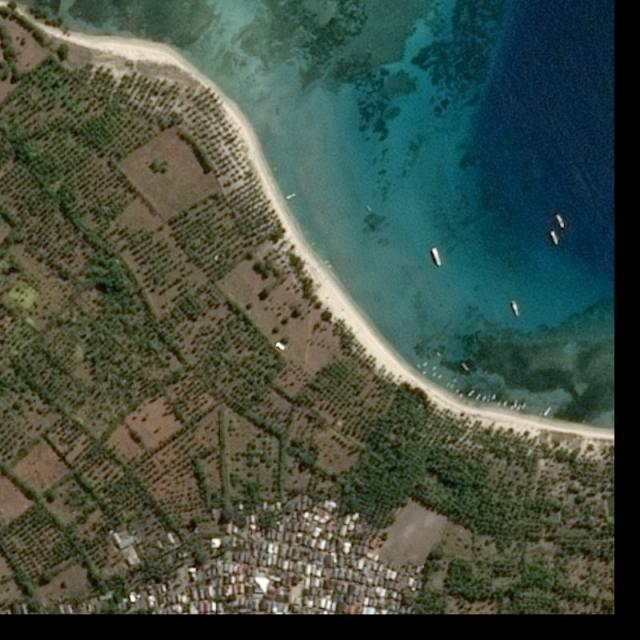ship: (431, 248, 443, 268), (510, 301, 521, 318), (550, 230, 561, 246), (556, 214, 566, 230), (461, 362, 470, 372), (286, 193, 296, 200), (544, 406, 551, 416), (490, 393, 497, 402), (475, 393, 482, 400), (366, 206, 372, 213), (271, 166, 278, 172), (468, 389, 474, 396), (502, 399, 508, 406), (482, 394, 487, 402), (514, 399, 518, 408), (522, 401, 526, 410), (432, 371, 437, 378), (455, 387, 460, 394), (517, 403, 522, 410), (329, 263, 334, 269), (310, 241, 315, 247), (422, 361, 428, 366), (438, 374, 443, 380), (417, 363, 421, 370), (304, 232, 309, 237), (325, 260, 330, 265), (422, 369, 427, 374), (452, 378, 458, 382), (437, 352, 441, 357), (432, 366, 437, 370), (450, 385, 454, 390), (446, 382, 450, 386)
